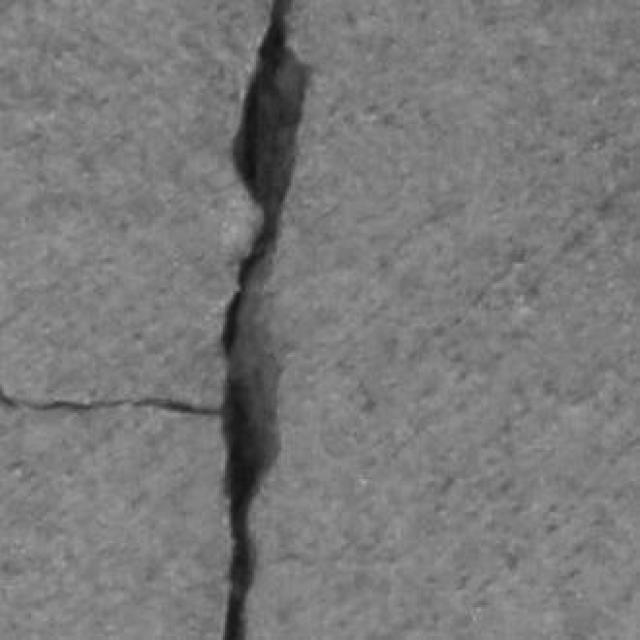crack: (224, 0, 308, 639), (0, 386, 223, 416)
